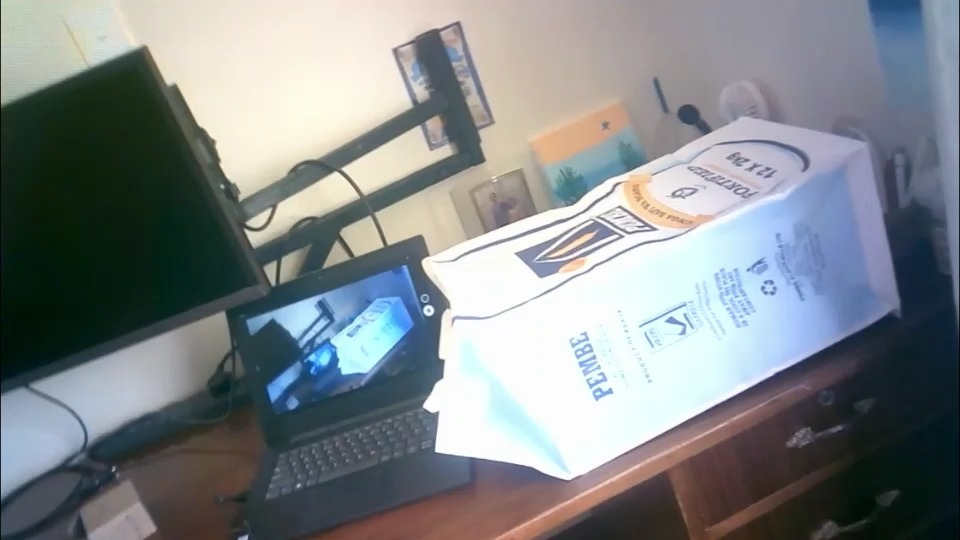wheat_flour_blue_label: (416, 114, 904, 477)
